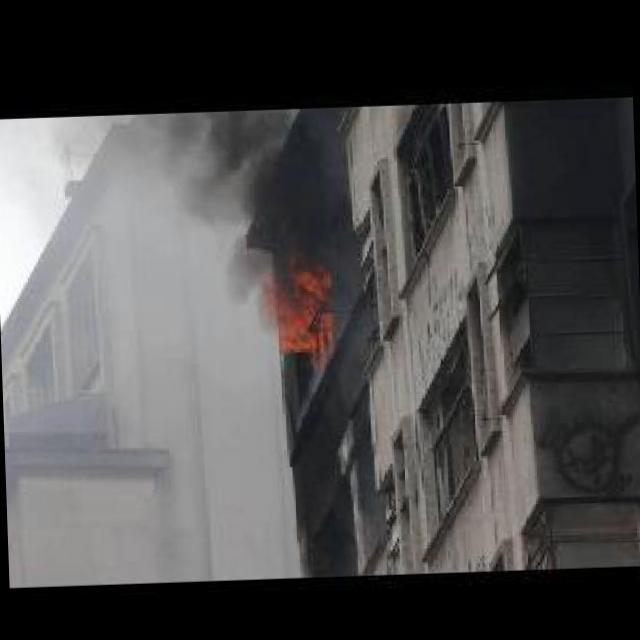fire: (268, 247, 339, 367)
smoke: (174, 110, 338, 284)
